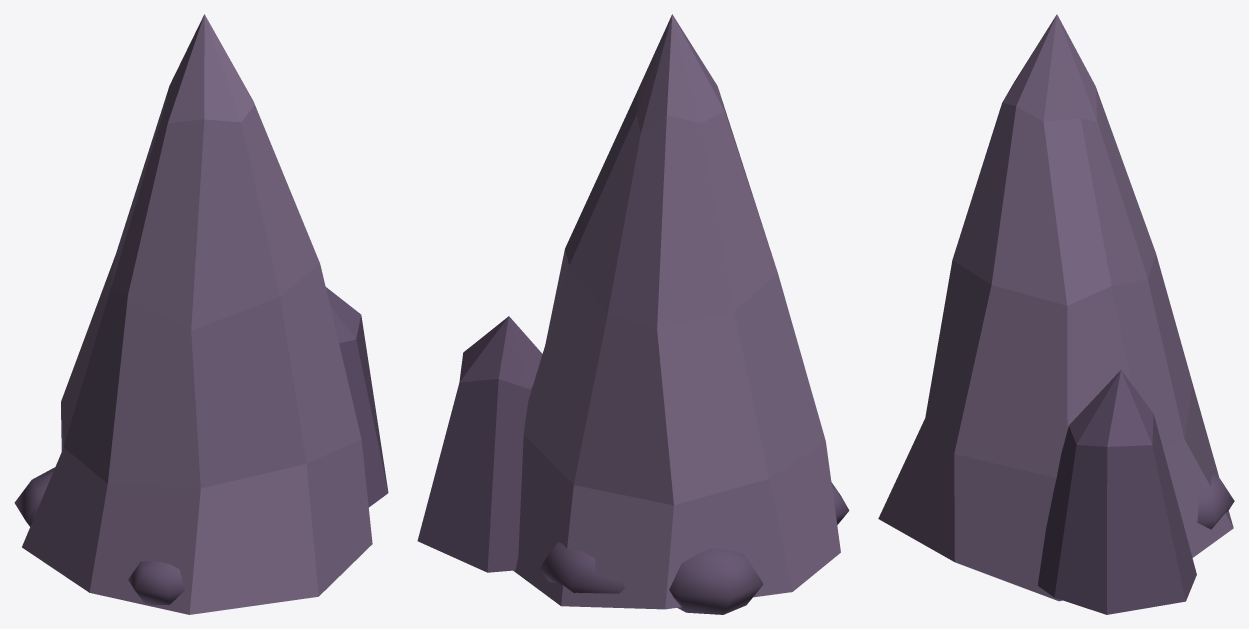
Rendered from v_ab_spire.glb.
3 renders of one model, left to right at view 1: azimuth 30°, elevation 25°; view 2: azimuth 150°, elevation 25°; view 3: azimuth 270°, elevation 25°, orthographic. The views are drawn at different scales.
Visible parts, largest first — view 1: Stalagmite; view 2: Stalagmite; view 3: Stalagmite.
Part boxes in pixels (left/top/right/bottom): Stalagmite: left=14, top=14, right=388, bottom=614; Stalagmite: left=417, top=14, right=849, bottom=614; Stalagmite: left=878, top=14, right=1234, bottom=614.
Size of what is drawn, in the model's own units: 1.64 by 2.39 by 1.5.
